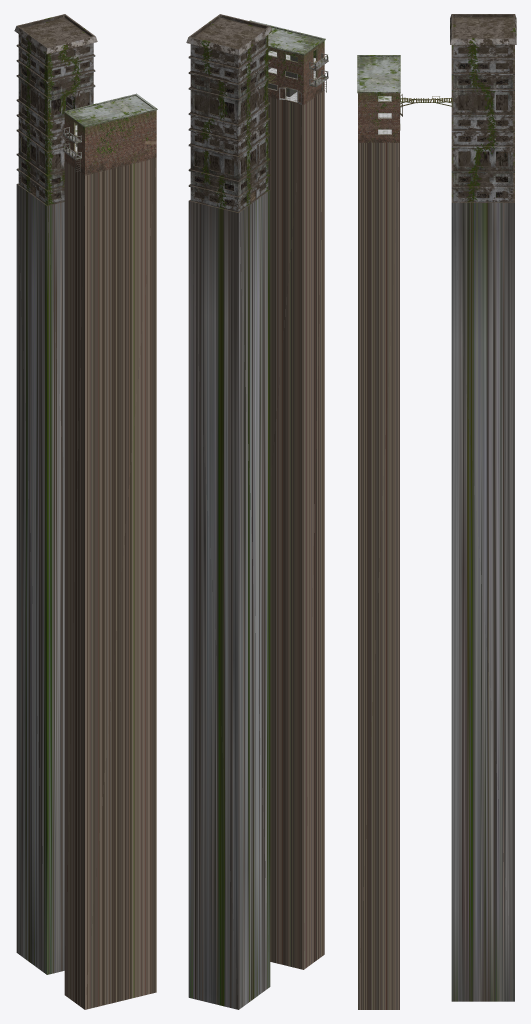
3 views of the same model, side by side, from view 1: azimuth 30°, elevation 25°; view 2: azimuth 150°, elevation 25°; view 3: azimuth 270°, elevation 25° (orthographic). The views are drawn at different scales.
Parts seen in each view (by area): view 1: footbridge_Material01_0; view 2: footbridge_Material01_0; view 3: footbridge_Material01_0.
Boxes of the visible parts, x1,y1,x2,y2 form: footbridge_Material01_0: [14, 14, 157, 1009]; footbridge_Material01_0: [186, 14, 328, 1009]; footbridge_Material01_0: [357, 14, 516, 1009].
Size of what is drawn, in the model's own units: 61.49 by 688 by 103.
3 materials, 3 textured.
